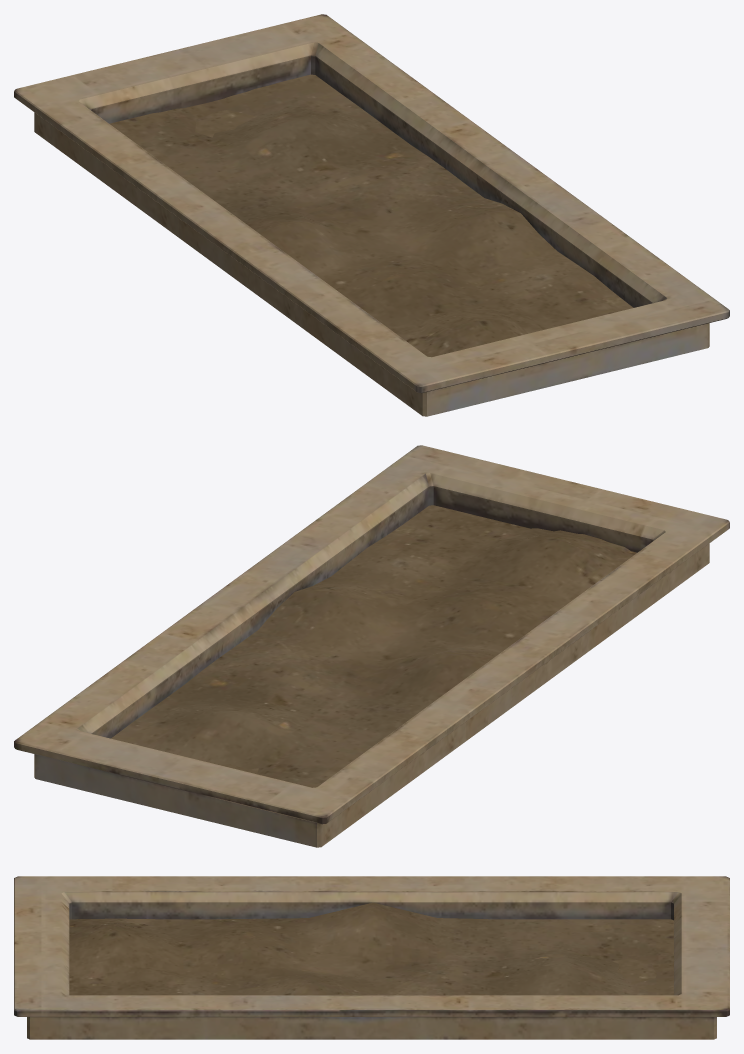
The model's file is patrick-large-pot.glb.
3 renders of one model, top to bottom at view 1: azimuth 30°, elevation 25°; view 2: azimuth 150°, elevation 25°; view 3: azimuth 270°, elevation 25°, orthographic. The views are drawn at different scales.
Parts seen in each view (by area): view 1: Dirt1; view 2: Dirt1; view 3: Dirt1.
Boxes of the visible parts, x1,y1,x2,y2 form: Dirt1: [14, 14, 729, 416]; Dirt1: [14, 445, 729, 847]; Dirt1: [14, 876, 729, 1039].
Bounding box in the file's own units: 0.0435 × 0.00521 × 0.0979.
1 material, 1 textured.
